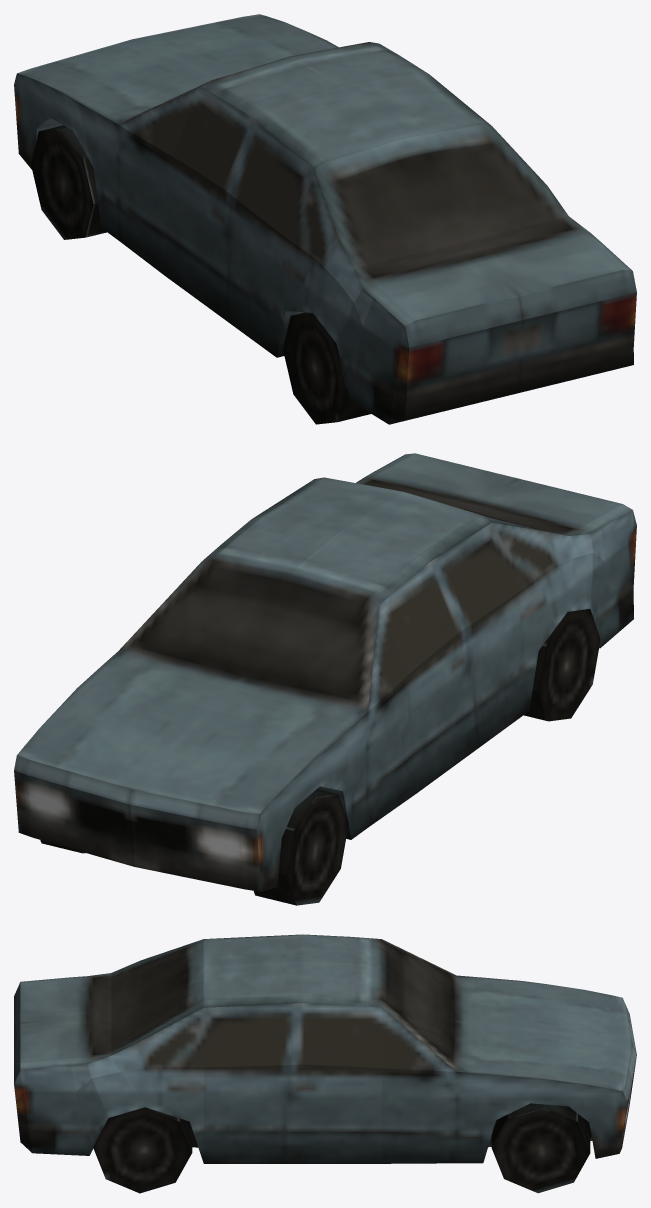
The model's file is Car_1_B.fbx.
3 renders of one model, top to bottom at view 1: azimuth 30°, elevation 25°; view 2: azimuth 150°, elevation 25°; view 3: azimuth 270°, elevation 25°, orthographic. The views are drawn at different scales.
Parts seen in each view (by area): view 1: Car_1_B; view 2: Car_1_B; view 3: Car_1_B.
Boxes of the visible parts, box(x1,y1,x2,y2) form: Car_1_B: box(14, 14, 636, 424); Car_1_B: box(14, 453, 636, 905); Car_1_B: box(14, 934, 636, 1193).
Bounding box in the file's own units: 194 × 168 × 520.
Materials: 1 (1 with a texture image).
